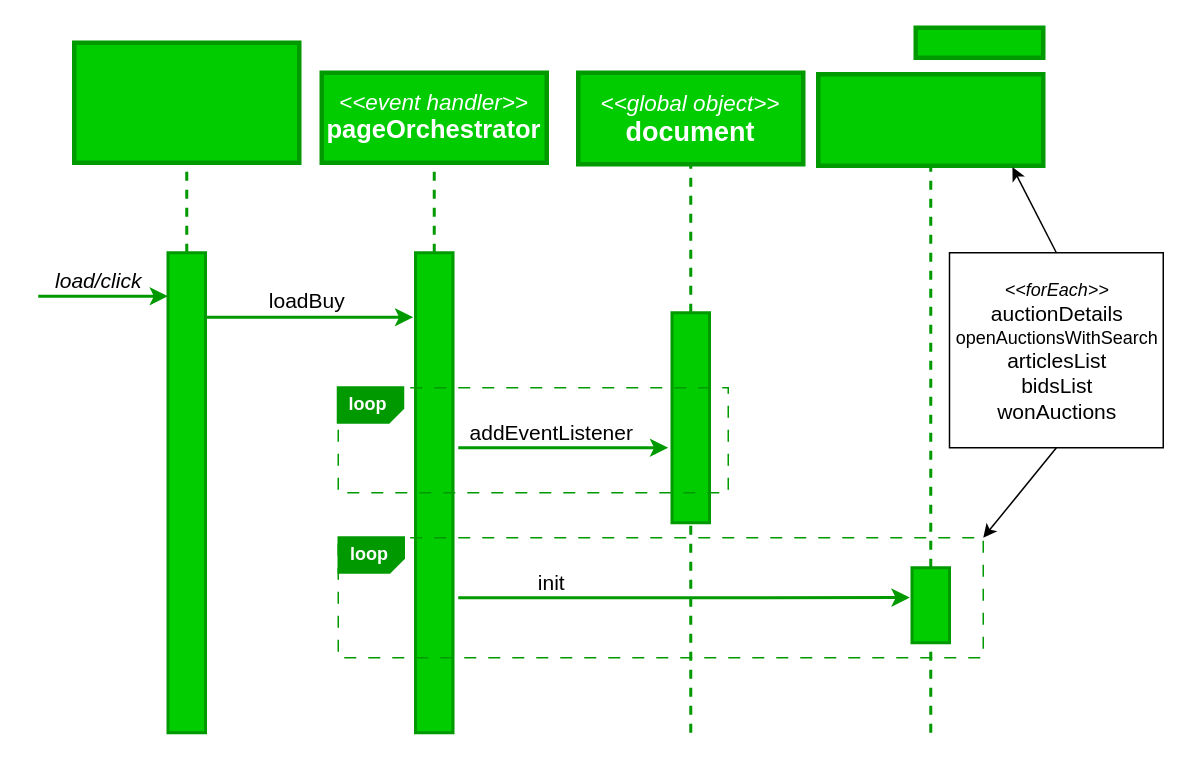
The diagram is 1190 pixels wide and 762 high, and some of its shapes have lost their labels. The box of each missing label's shape, as (x1, y1, x2, y2) in pixels:
<<a click>> home.html home.js: (71, 40, 301, 164)
<<table handler>> handler: (815, 71, 1045, 167)
client side: (913, 25, 1045, 59)
